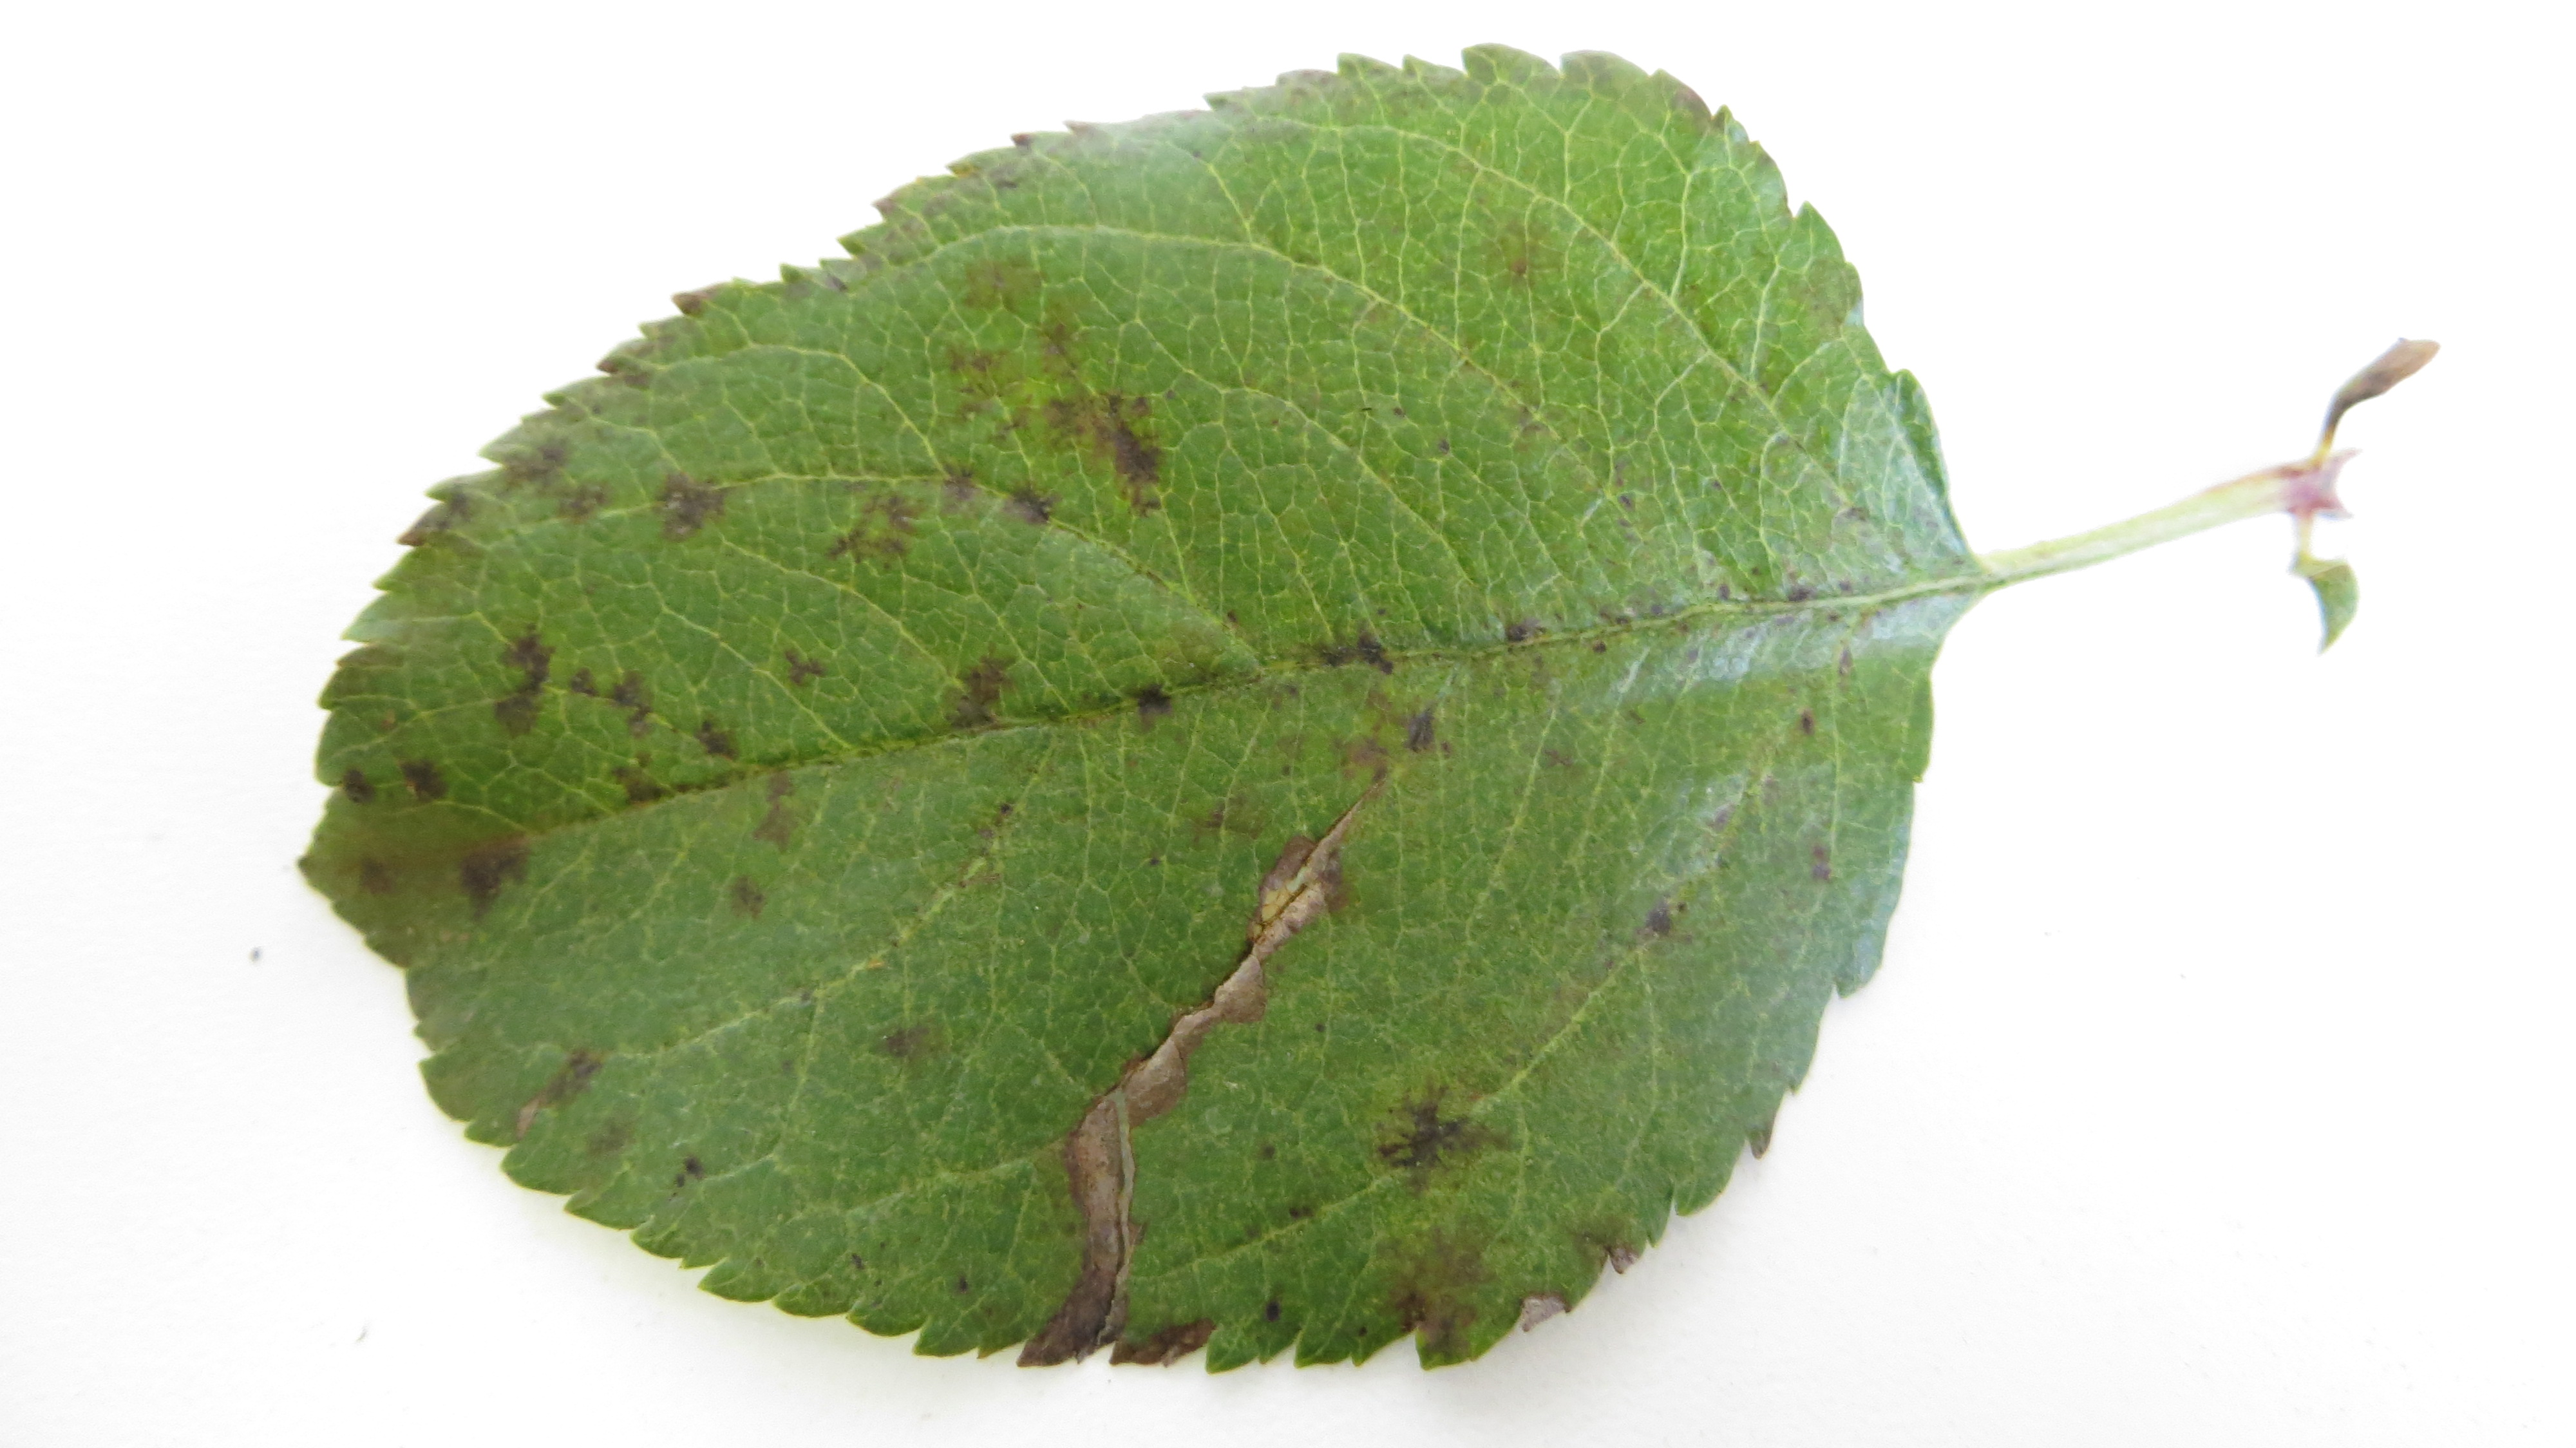sarna: (1375, 1193, 1497, 1356), (1359, 1062, 1514, 1179), (1054, 388, 1180, 526), (444, 818, 548, 926), (830, 480, 934, 584), (1559, 1174, 1644, 1280), (564, 653, 672, 736), (488, 621, 563, 742), (939, 637, 1023, 743), (947, 326, 1035, 420), (1470, 205, 1555, 297), (1306, 607, 1414, 678), (1182, 777, 1279, 855), (644, 458, 729, 547), (518, 1037, 617, 1108), (1115, 1301, 1215, 1368), (1382, 683, 1454, 763), (1633, 883, 1698, 970), (410, 476, 488, 547), (1033, 297, 1095, 386), (747, 756, 805, 850), (1488, 597, 1557, 674), (490, 418, 563, 487), (874, 1007, 945, 1076), (775, 641, 840, 703), (317, 751, 384, 811), (1123, 671, 1184, 738), (603, 752, 672, 811), (554, 464, 617, 526), (718, 860, 777, 926), (1780, 694, 1835, 756), (973, 271, 1051, 313), (1796, 827, 1840, 899), (1003, 474, 1056, 533), (396, 749, 449, 807), (663, 1140, 704, 1214), (685, 715, 743, 763), (931, 457, 977, 503)
